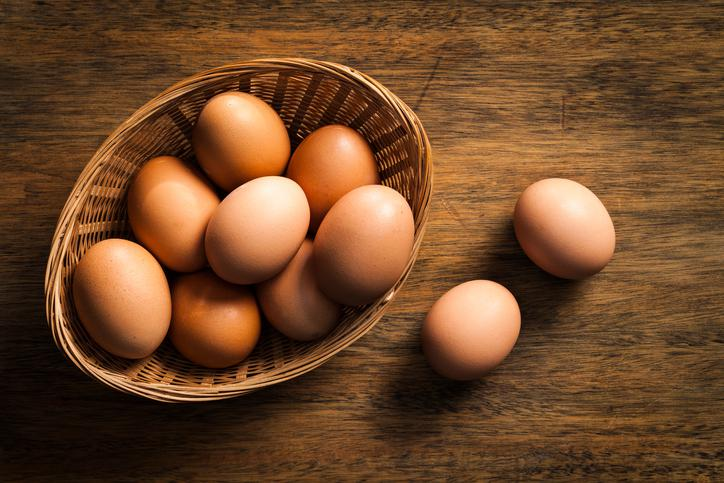egg: (311, 175, 418, 309), (67, 234, 172, 366), (200, 172, 313, 288), (504, 173, 619, 284), (124, 151, 226, 273), (415, 277, 526, 383), (186, 86, 296, 190), (284, 120, 379, 227), (255, 244, 337, 345), (168, 274, 257, 365)
